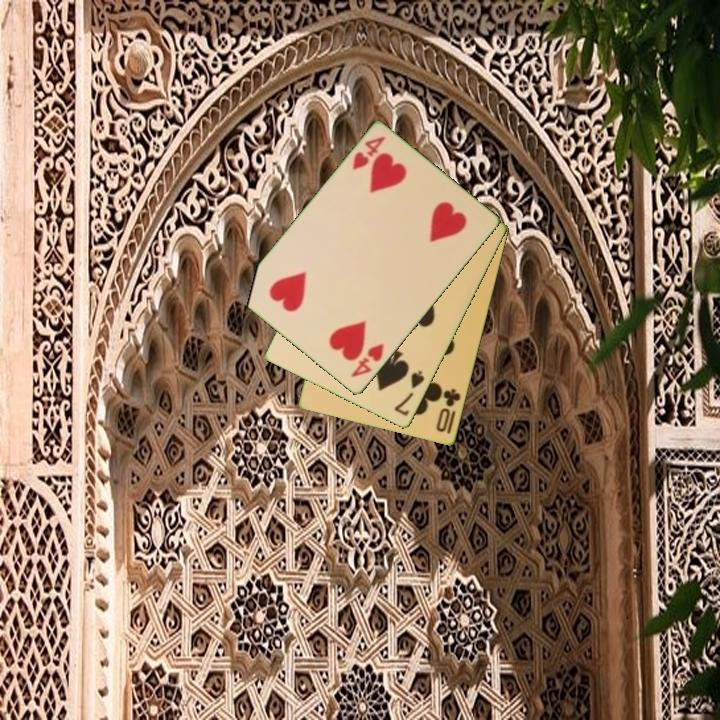10c: (433, 385, 464, 435)
4h: (347, 340, 387, 381), (349, 133, 389, 173)
7s: (391, 367, 427, 419)
